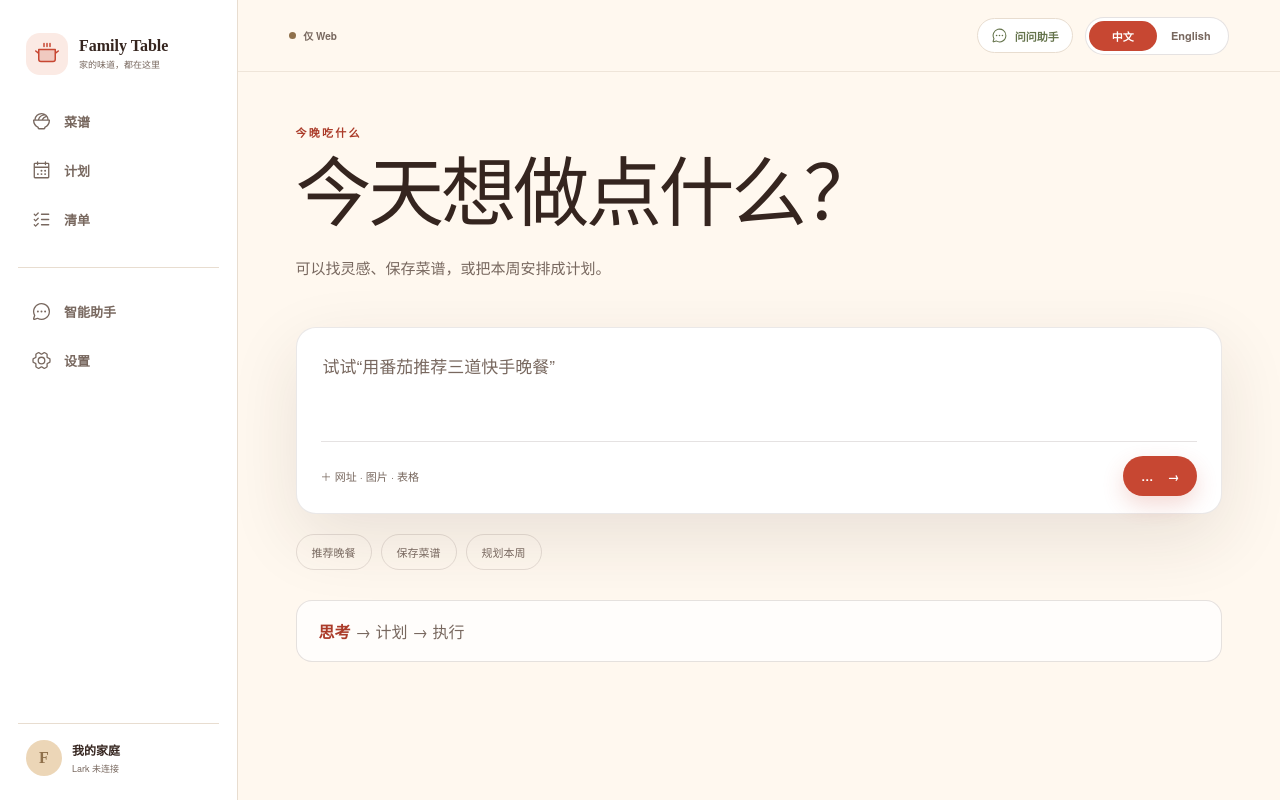
Test: shell localization › keeps all interface copy in the selected locale
Check: the text "家的味道，都在这里" is shown, box [79,58,168,71]
Check: the navigation bar named "主要导航" shows "计划", box [18,149,219,192]
Step 1. Click the button "English" → x=1191, y=36, box [1157,20,1225,50]
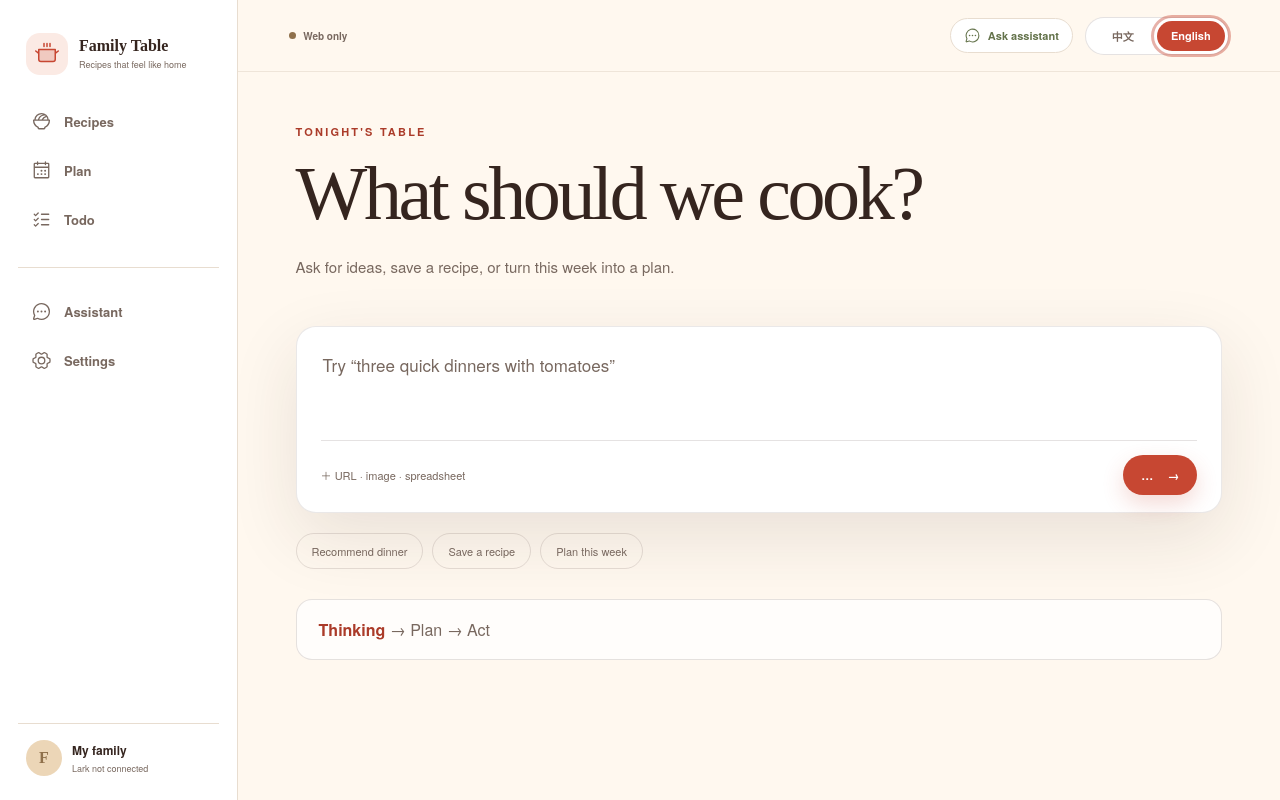
Check: the text "Recipes that feel like home" is shown, box [79,58,187,71]
Check: the navigation bar named "Primary navigation" shows "Plan", box [18,149,219,192]
Check: the text "Web only" is shown, box [289,28,347,42]
